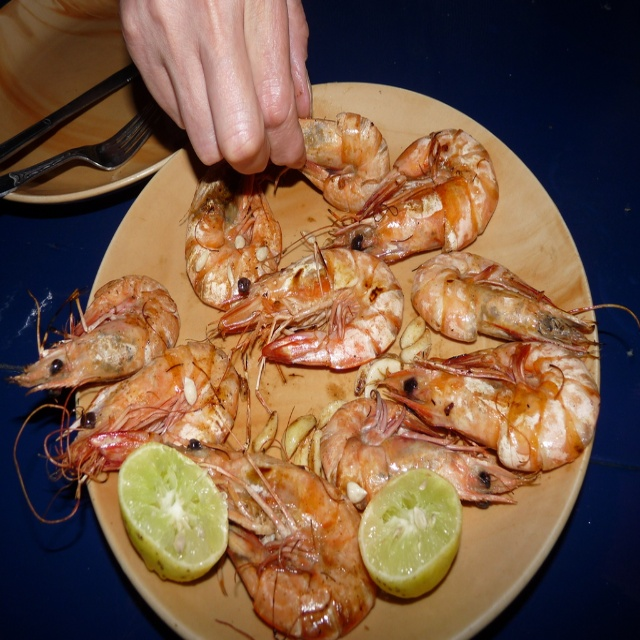Shrimp: (4, 111, 640, 640)
